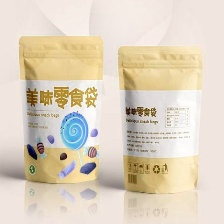snack: (11, 30, 107, 189), (112, 40, 207, 199)
